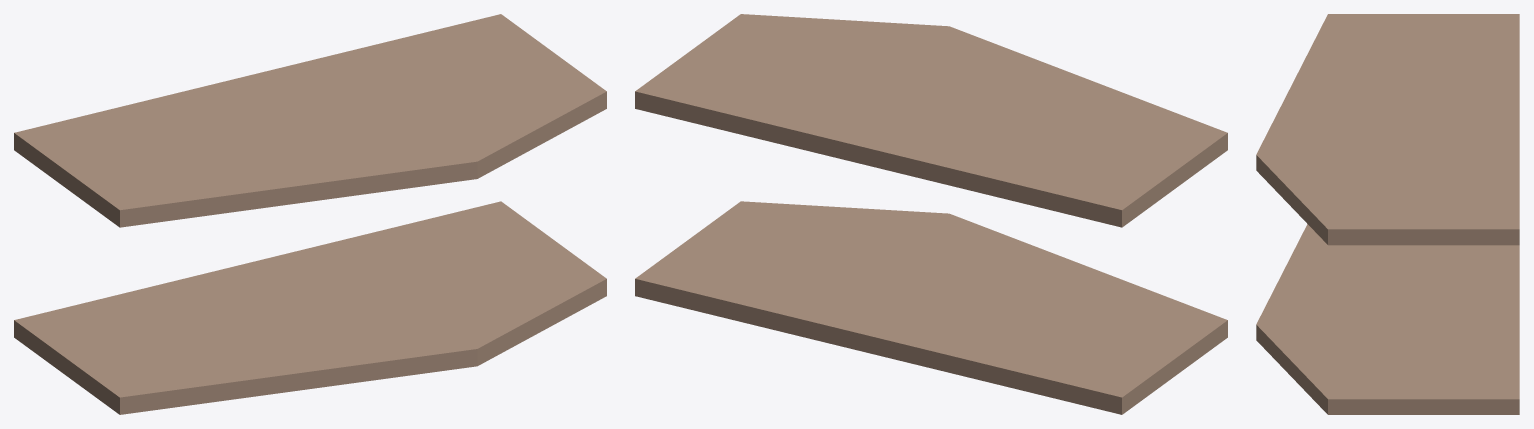
File: Shelf_12.fbx
3 renders of one model, left to right at view 1: azimuth 30°, elevation 25°; view 2: azimuth 150°, elevation 25°; view 3: azimuth 270°, elevation 25°, orthographic. The views are drawn at different scales.
Parts seen in each view (by area): view 1: Shelf_12; view 2: Shelf_12; view 3: Shelf_12.
Boxes of the visible parts, left/top/right/bottom form: Shelf_12: left=14, top=14, right=606, bottom=414; Shelf_12: left=635, top=14, right=1227, bottom=414; Shelf_12: left=1256, top=14, right=1519, bottom=414.
Bounding box in the file's own units: 120 × 62.11 × 48.26.
